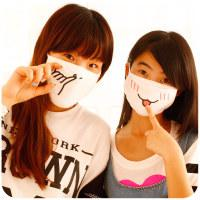OK: (47, 43, 101, 105), (129, 62, 178, 115)
